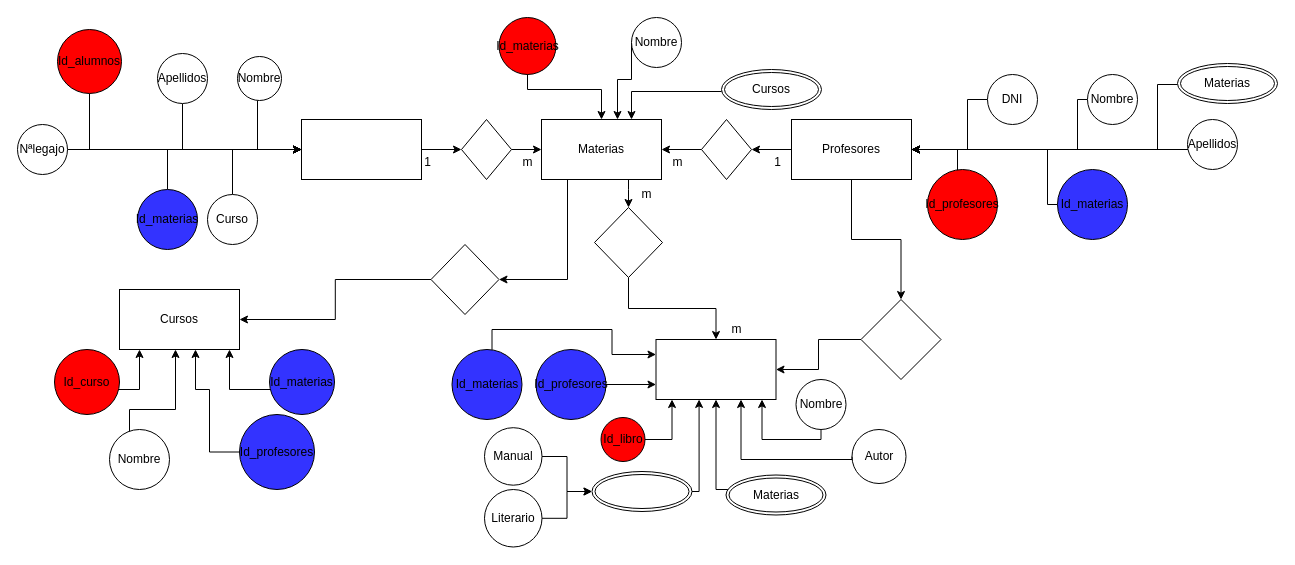
This 1295x565 diagram has some shape labels left out. The box of each missing label's shape, as (x1, y1, x2, y2) in pixels:
Alumnos: (300, 118, 422, 180)
Categoria: (591, 470, 692, 512)
Dan: (700, 118, 752, 180)
Estan: (430, 244, 499, 314)
Libros: (655, 338, 776, 400)
Necesitan: (594, 206, 662, 278)
Suben: (860, 298, 941, 380)
Tienen: (460, 118, 512, 180)
